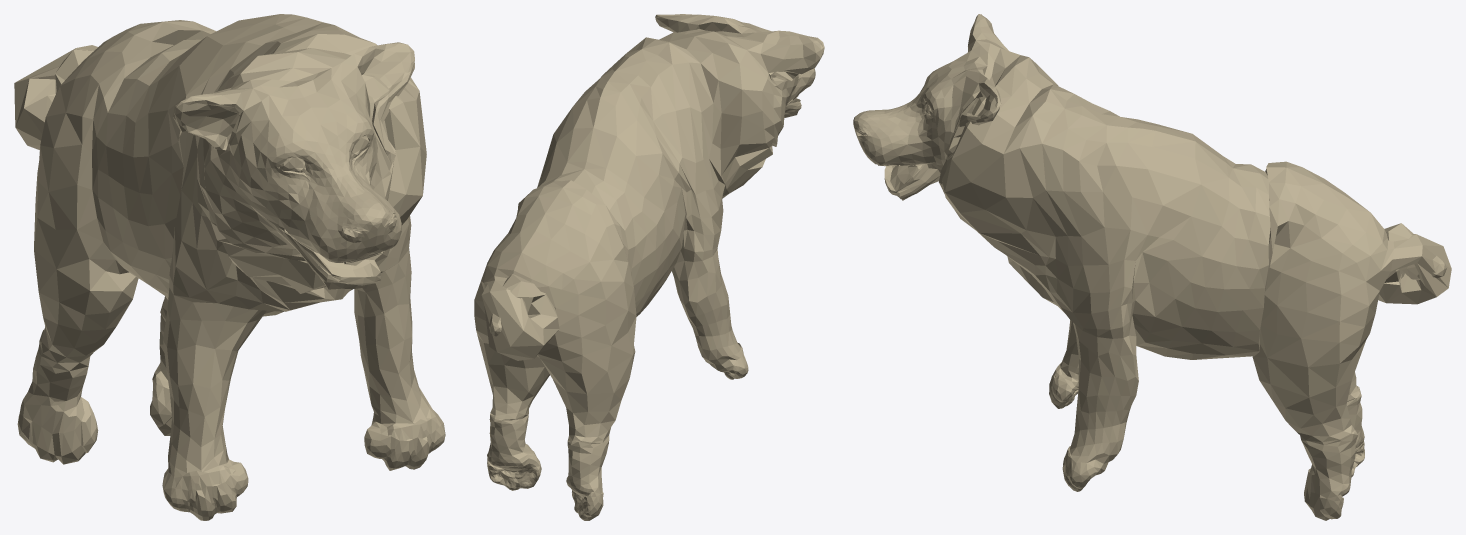
The picture shows the model from 3 angles, left to right: view 1: azimuth 30°, elevation 25°; view 2: azimuth 150°, elevation 25°; view 3: azimuth 270°, elevation 25°; orthographic projection. The views are drawn at different scales.
Parts seen in each view (by area): view 1: world; view 2: world; view 3: world.
Part boxes in pixels (left/top/right/bottom): world: left=14, top=14, right=445, bottom=520; world: left=474, top=14, right=824, bottom=520; world: left=853, top=14, right=1451, bottom=520.
Bounding box in the file's own units: 0.5347 × 0.8713 × 1.1.
